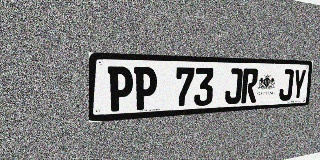3: (194, 68, 214, 106)
7: (173, 67, 195, 108)
J: (224, 68, 243, 104), (278, 69, 294, 101)
P: (107, 66, 133, 112), (133, 67, 157, 110)
R: (241, 68, 259, 103)
Y: (291, 69, 306, 100)
